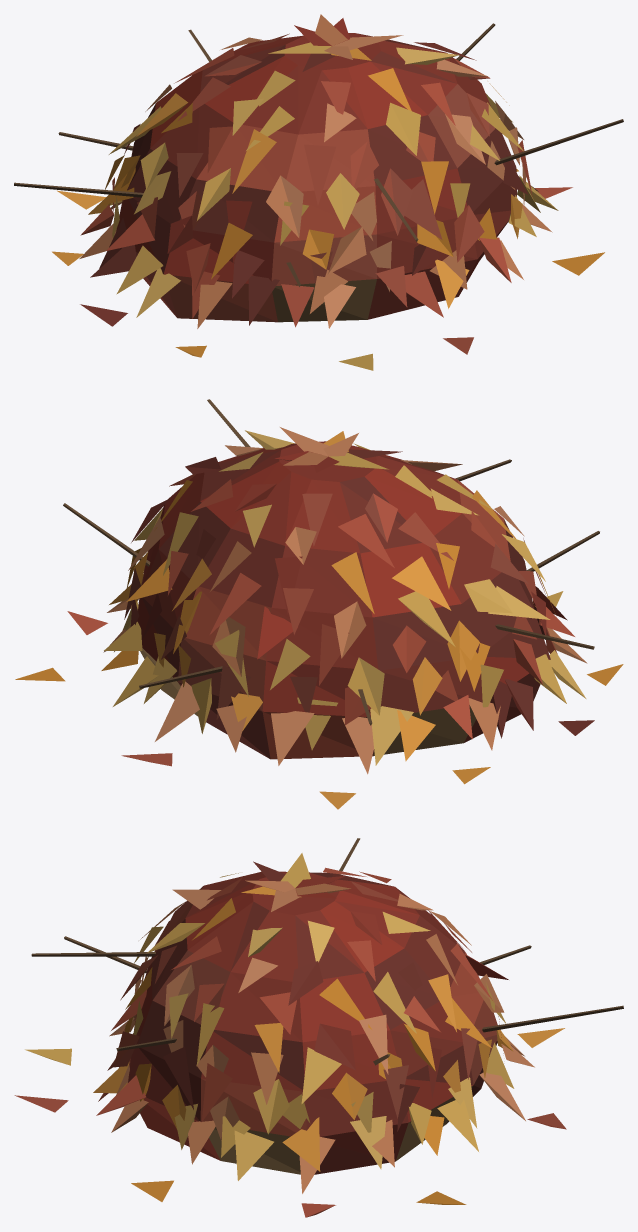
Rendered from raked-leaf-pile-a0d860.glb.
The picture shows the model from 3 angles, top to bottom: view 1: azimuth 30°, elevation 25°; view 2: azimuth 150°, elevation 25°; view 3: azimuth 270°, elevation 25°; orthographic projection. The views are drawn at different scales.
Parts seen in each view (by area): view 1: leaf-pile-mesh, crown-leaves-mesh; view 2: leaf-pile-mesh, crown-leaves-mesh; view 3: leaf-pile-mesh, crown-leaves-mesh.
Boxes of the visible parts, x1,y1,x2,y2 form: leaf-pile-mesh: [14, 23, 623, 370]; crown-leaves-mesh: [268, 14, 403, 71]; leaf-pile-mesh: [15, 399, 623, 809]; crown-leaves-mesh: [275, 427, 402, 472]; leaf-pile-mesh: [14, 838, 623, 1217]; crown-leaves-mesh: [241, 853, 351, 911].
Bounding box in the file's own units: 1.2 × 0.478 × 1.17.
